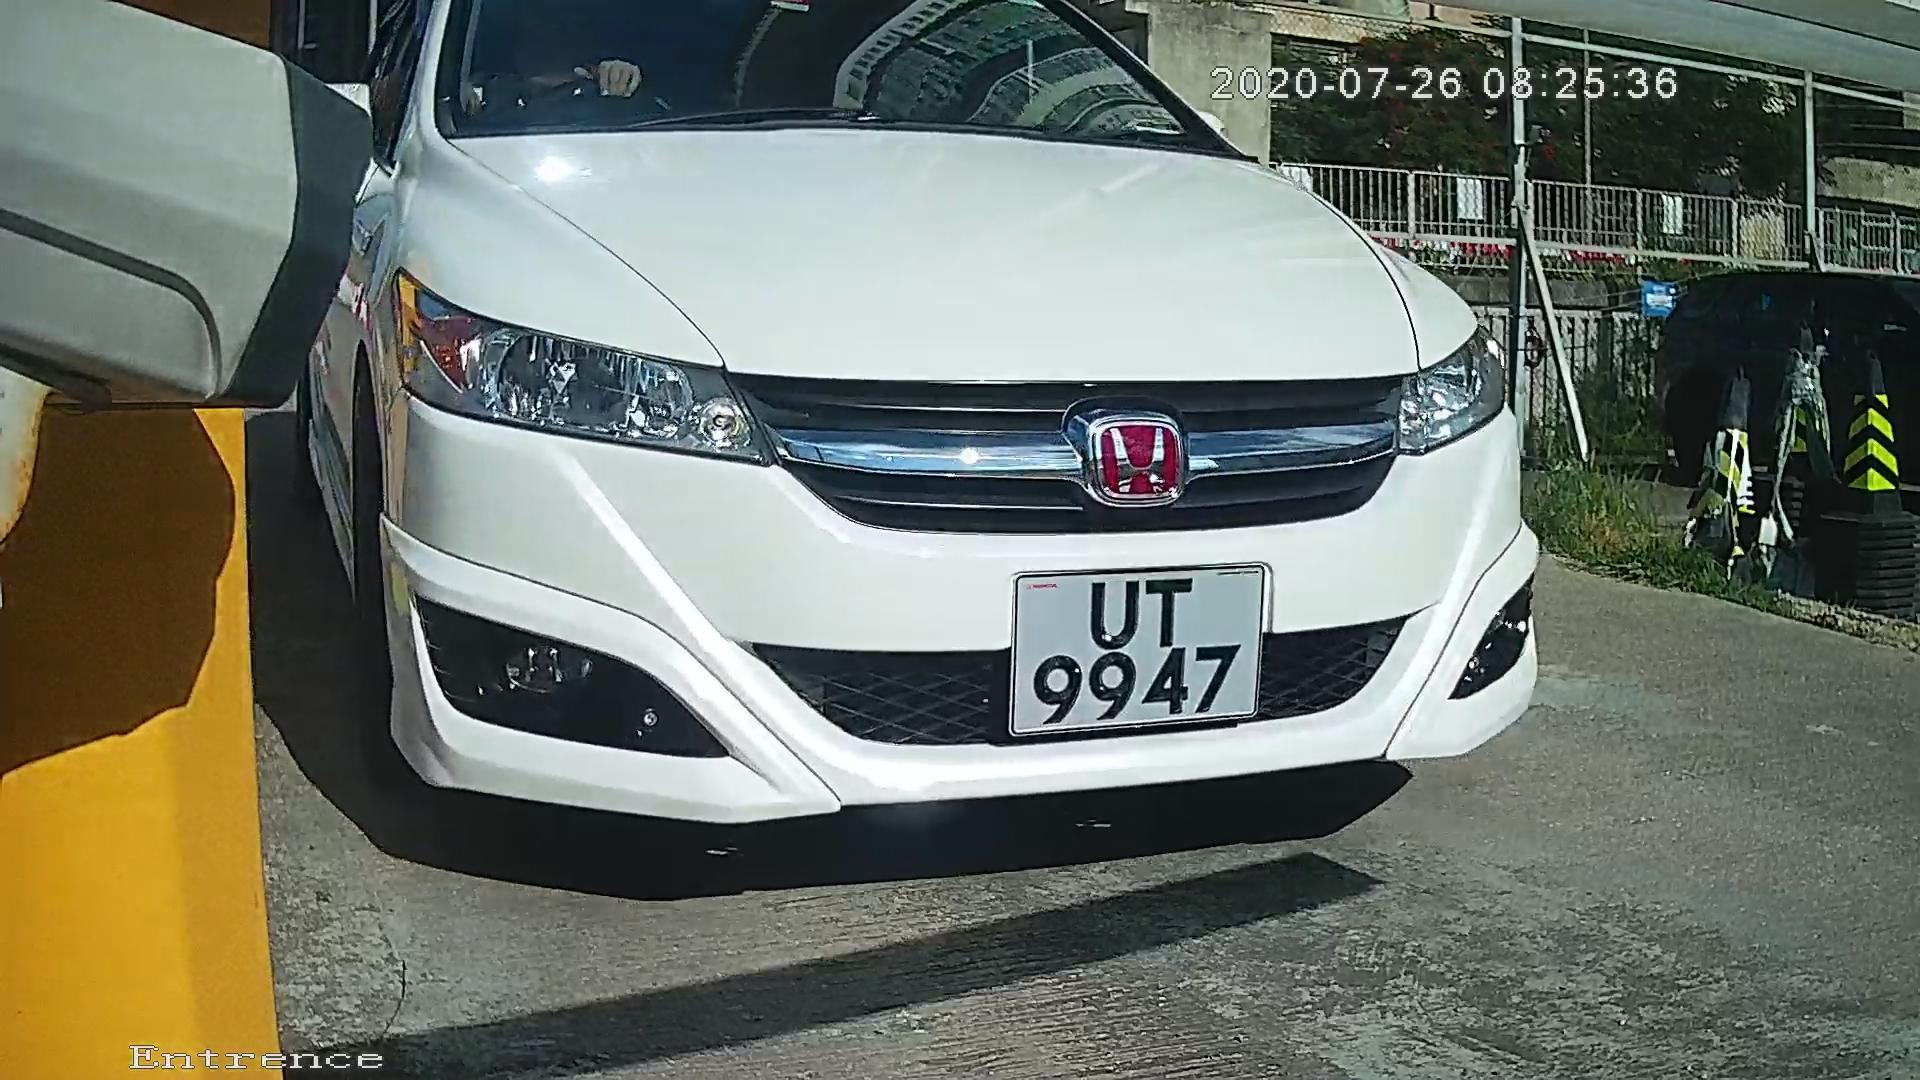privatecar: (266, 5, 1578, 878)
